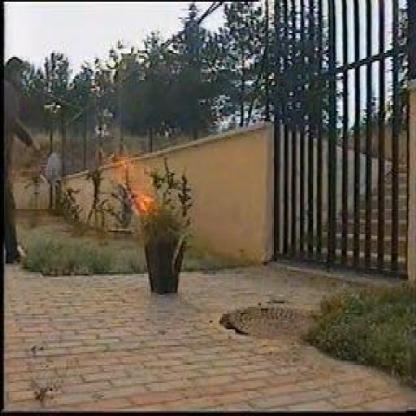foggia-v2-map80-epoch100 - v1 4323: (108, 157, 156, 207)
